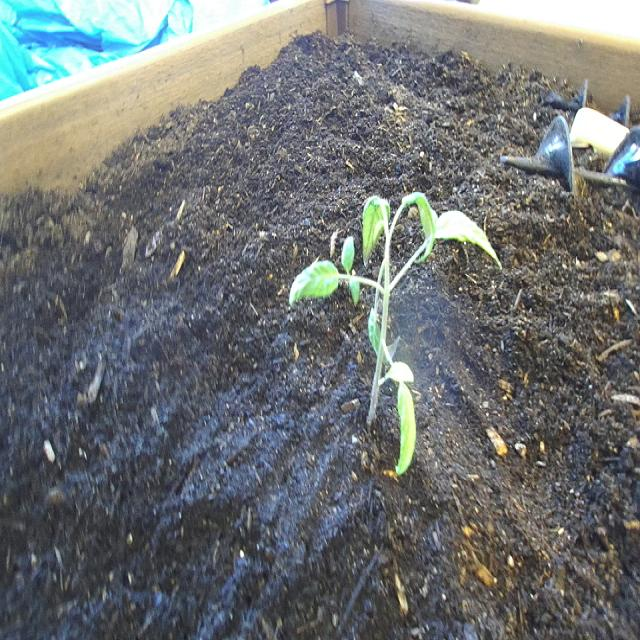Healthy: (282, 162, 508, 484)
